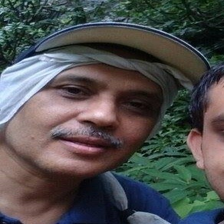no_mask: (18, 65, 161, 173)
